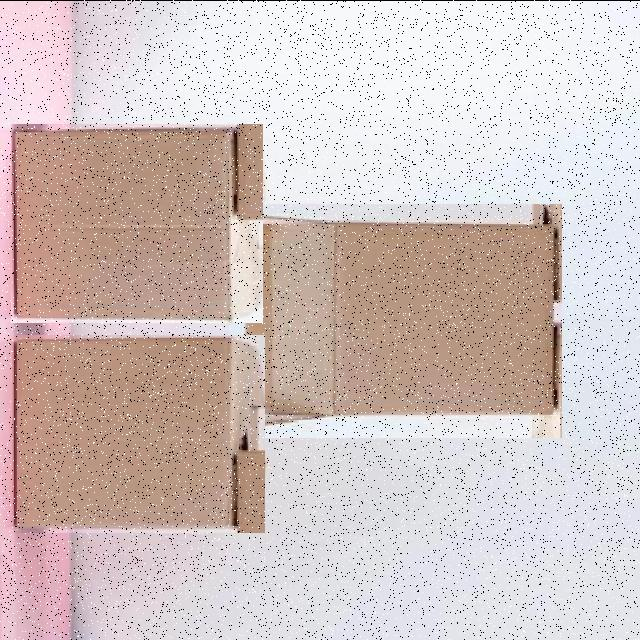defect: (229, 203, 562, 437)
normal: (11, 123, 263, 322), (12, 334, 265, 532)
